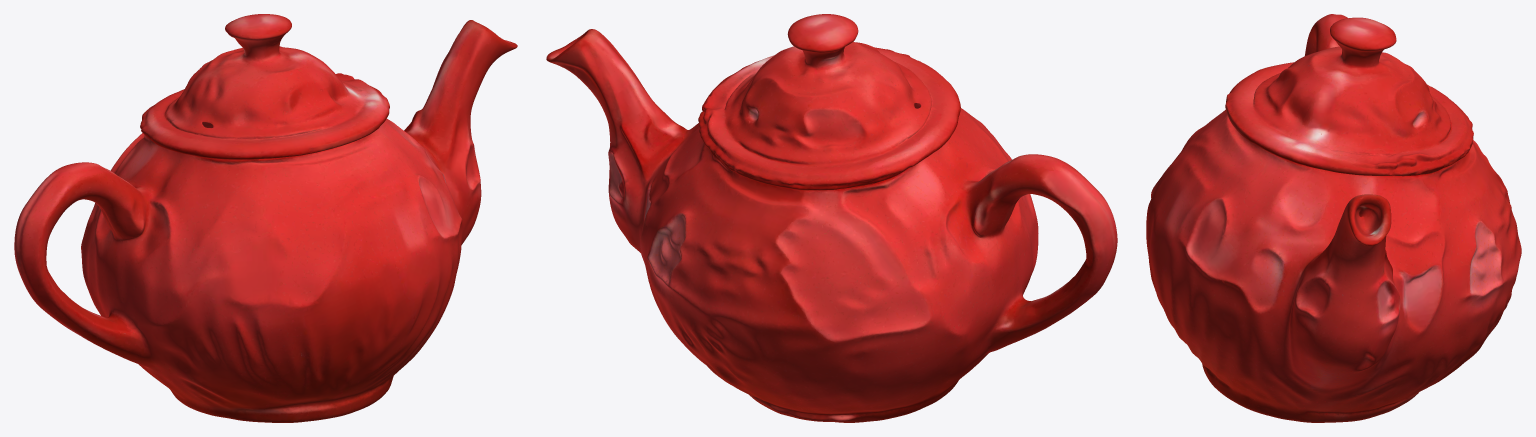
The model's file is pixal3d.glb.
3 views of the same model, side by side, from view 1: azimuth 30°, elevation 25°; view 2: azimuth 150°, elevation 25°; view 3: azimuth 270°, elevation 25° (orthographic). The views are drawn at different scales.
Visible parts, largest first — view 1: geometry_0; view 2: geometry_0; view 3: geometry_0.
Boxes of the visible parts, bbox=[...] form: geometry_0: bbox=[14, 14, 517, 422]; geometry_0: bbox=[546, 14, 1117, 422]; geometry_0: bbox=[1146, 14, 1521, 422].
Bounding box in the file's own units: 0.9053 × 0.5922 × 0.5636.
Materials: 1 (1 with a texture image).
